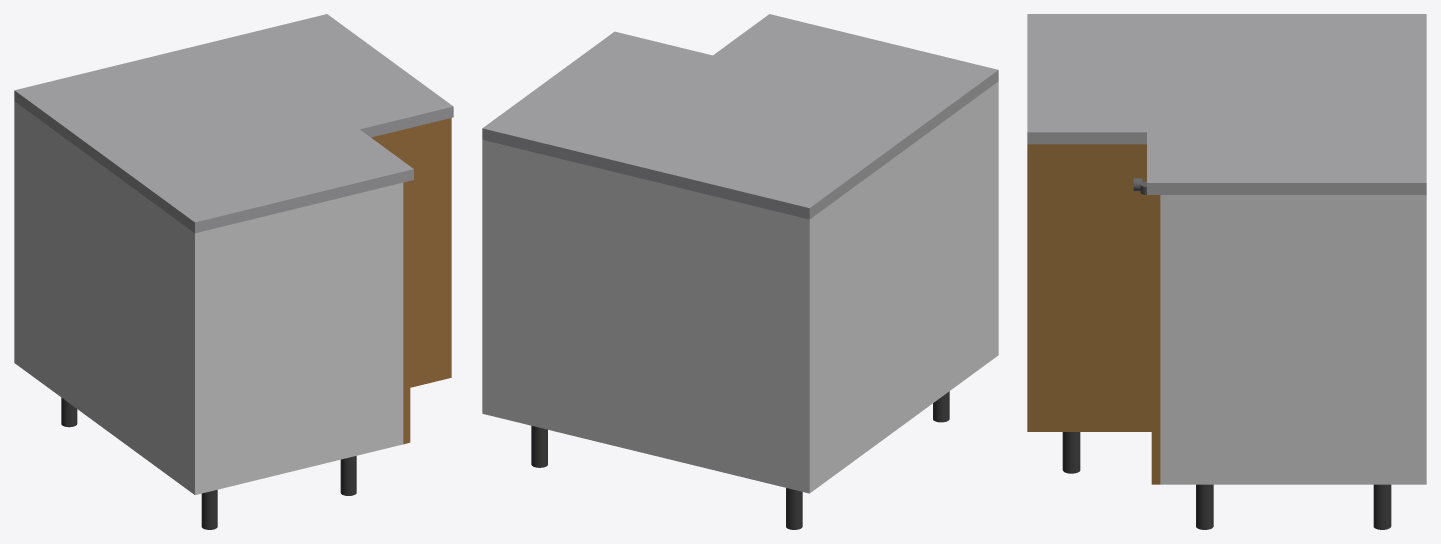
The model's file is corner_cabinet_l_v1.glb.
3 views of the same model, side by side, from view 1: azimuth 30°, elevation 25°; view 2: azimuth 150°, elevation 25°; view 3: azimuth 270°, elevation 25° (orthographic). The views are drawn at different scales.
Parts seen in each view (by area): view 1: world; view 2: world; view 3: world.
Part boxes in pixels (x1,y1,x2,y2): world: (14, 14, 453, 529); world: (482, 14, 998, 529); world: (1027, 14, 1426, 529).
Size of the model in its own units: 90 by 90 by 90.
